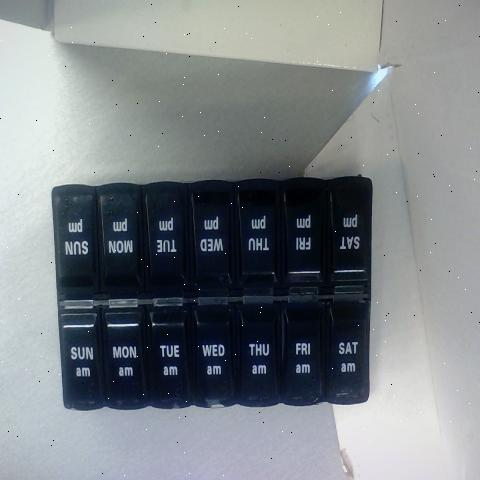FRI-am: (288, 307, 324, 401)
FRI-pm: (285, 181, 323, 289)
MON-am: (100, 305, 144, 408)
MON-pm: (100, 185, 139, 289)
SAT-am: (326, 302, 365, 398)
SAT-pm: (63, 305, 98, 410)
SUN-am: (332, 181, 367, 278)
SUN-pm: (56, 194, 96, 286)
THU-am: (239, 306, 279, 401)
THU-pm: (238, 184, 278, 292)
TUE-am: (147, 301, 188, 405)
TUE-pm: (142, 183, 186, 294)
WED-am: (191, 302, 233, 406)
WED-pm: (190, 183, 231, 296)
